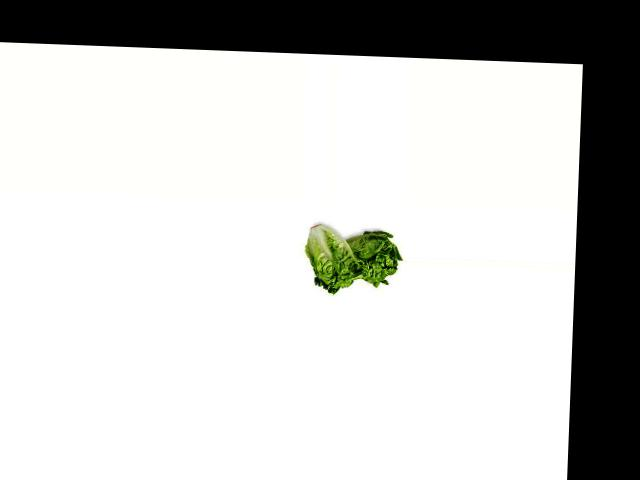lettuce: (340, 221, 403, 288)
